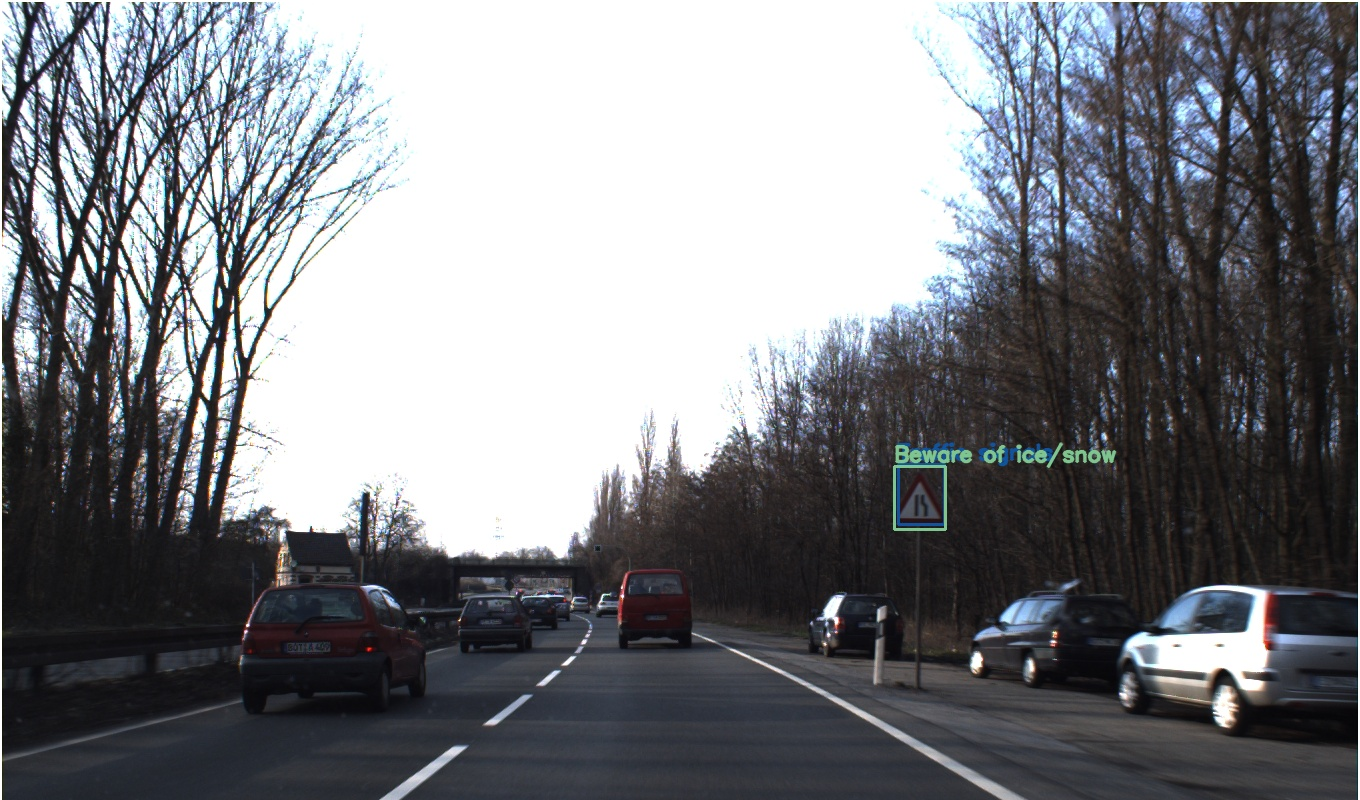No passing: (825, 406, 864, 445)
